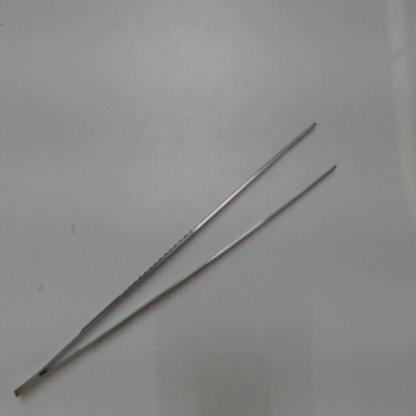DeBakey Dissector: (8, 115, 348, 404)
